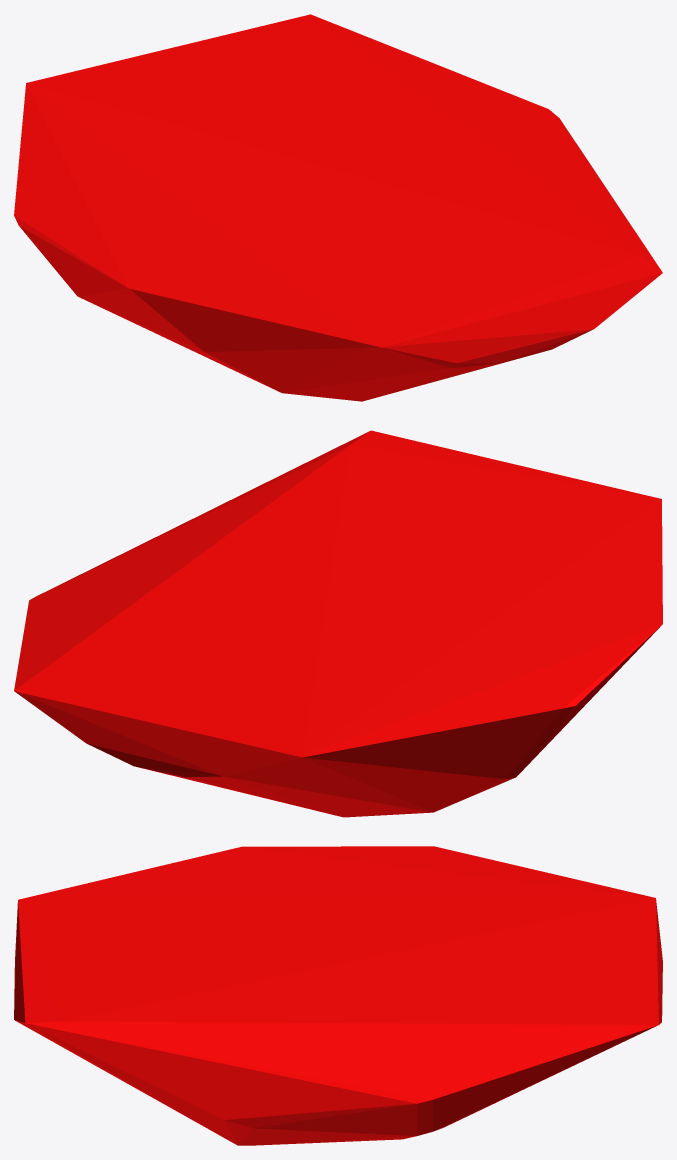
The model's file is wrist_pitch_0091_convex_hull_00.obj.
3 views of the same model, one above another, from view 1: azimuth 30°, elevation 25°; view 2: azimuth 150°, elevation 25°; view 3: azimuth 270°, elevation 25° (orthographic). The views are drawn at different scales.
Parts seen in each view (by area): view 1: wrist_pitch_0091_convex_hull_00; view 2: wrist_pitch_0091_convex_hull_00; view 3: wrist_pitch_0091_convex_hull_00.
Boxes of the visible parts, x1,y1,x2,y2 form: wrist_pitch_0091_convex_hull_00: (14,14,662,401); wrist_pitch_0091_convex_hull_00: (14,430,662,817); wrist_pitch_0091_convex_hull_00: (14,846,662,1145).
Size of the model in its own units: 0.041 by 0.0131 by 0.0478.
